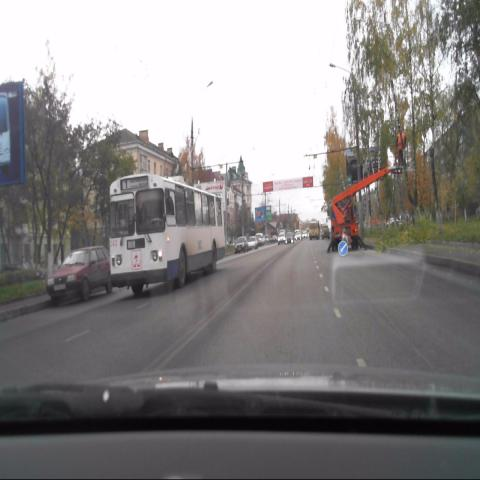4_2_2: (339, 241, 348, 255)
